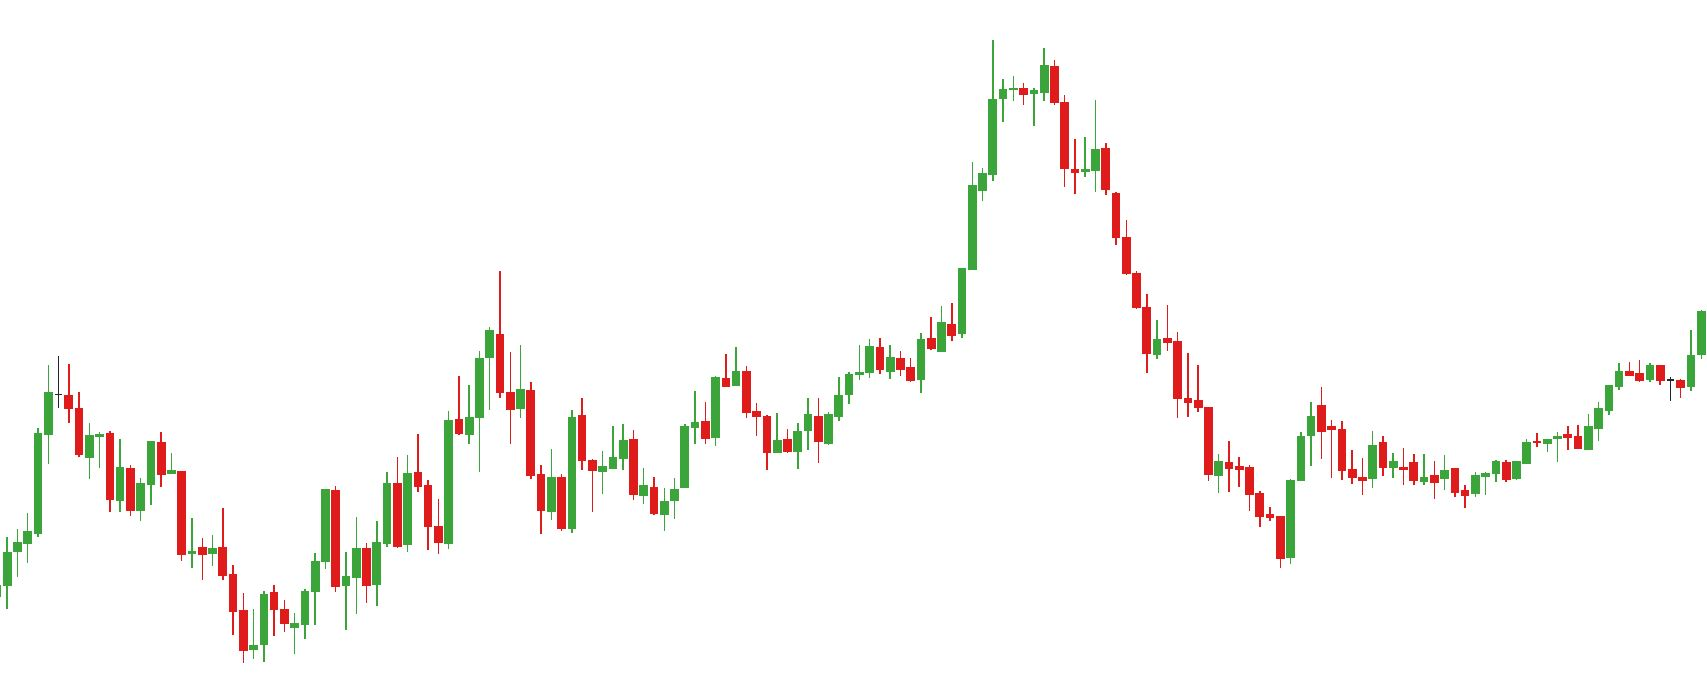buy: (690, 393, 783, 475)
